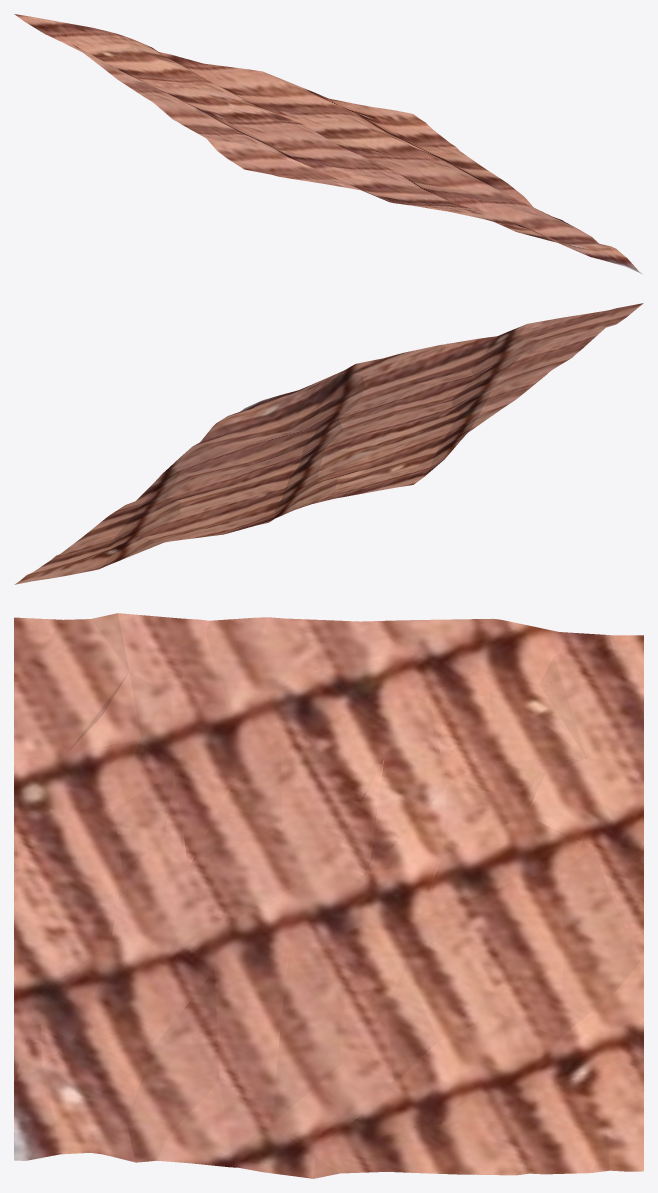
The picture shows the model from 3 angles, top to bottom: view 1: azimuth 30°, elevation 25°; view 2: azimuth 150°, elevation 25°; view 3: azimuth 270°, elevation 25°; orthographic projection. The views are drawn at different scales.
Size of the model in its own units: 0.8373 by 0.4392 by 0.8373.
3 materials, 3 textured.
